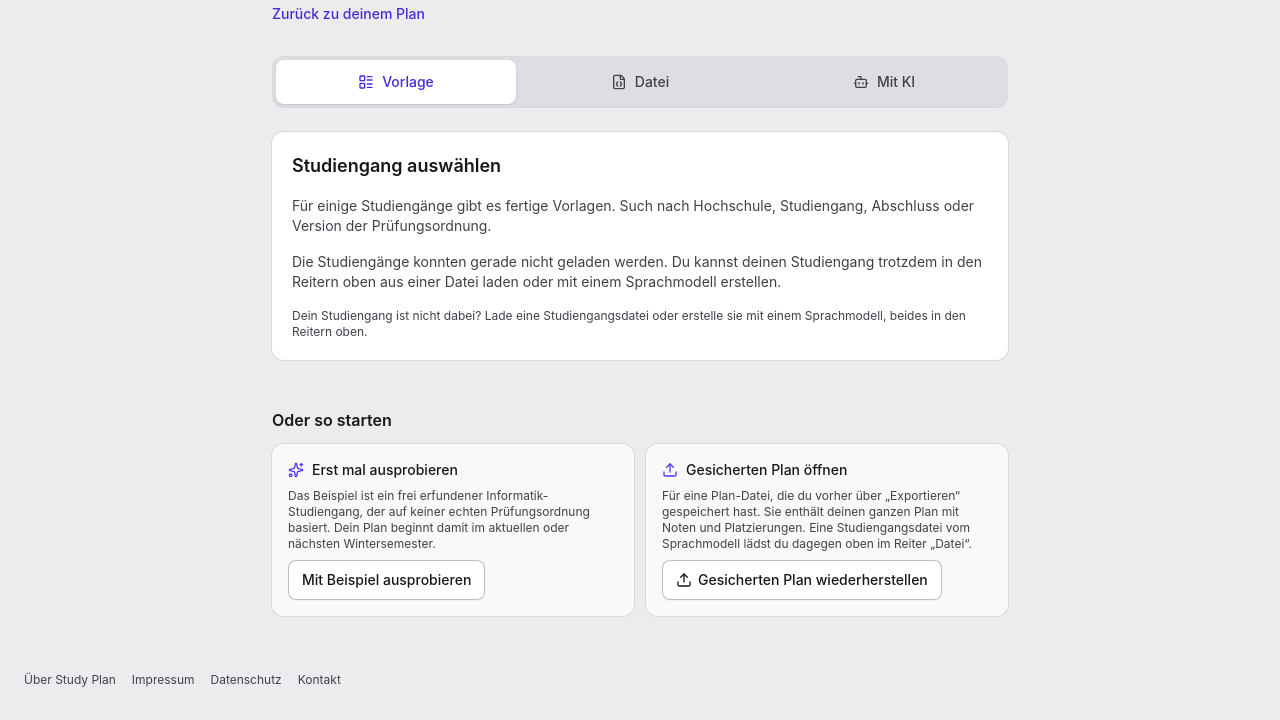
Test: onboarding › asks before the example replaces an existing plan
The image size is (1280, 720).
(page scrolled)
Expected: the link "Zurück zu deinem Plan" is shown, [272,5,425,22]
Click the button "Mit Beispiel ausprobieren": (387, 580) [288,560,485,600]
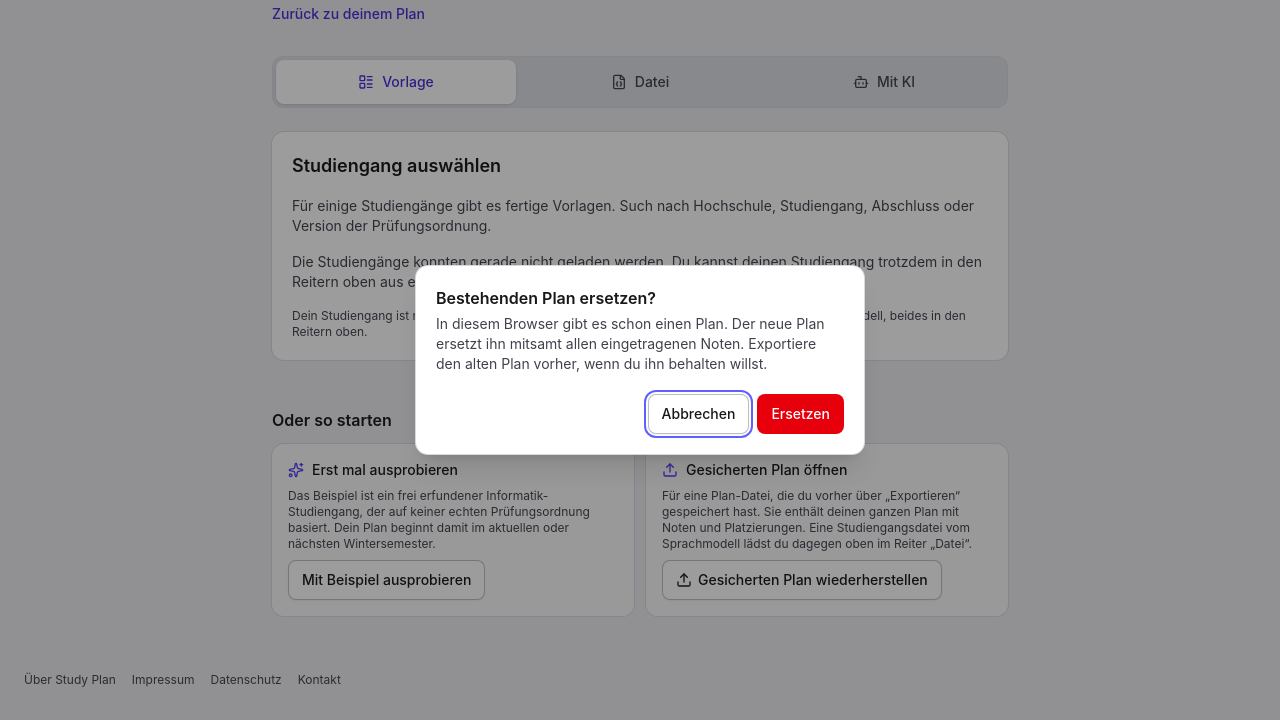
Click the button "Ersetzen": (801, 414) [757,394,844,434]
(page scrolled)
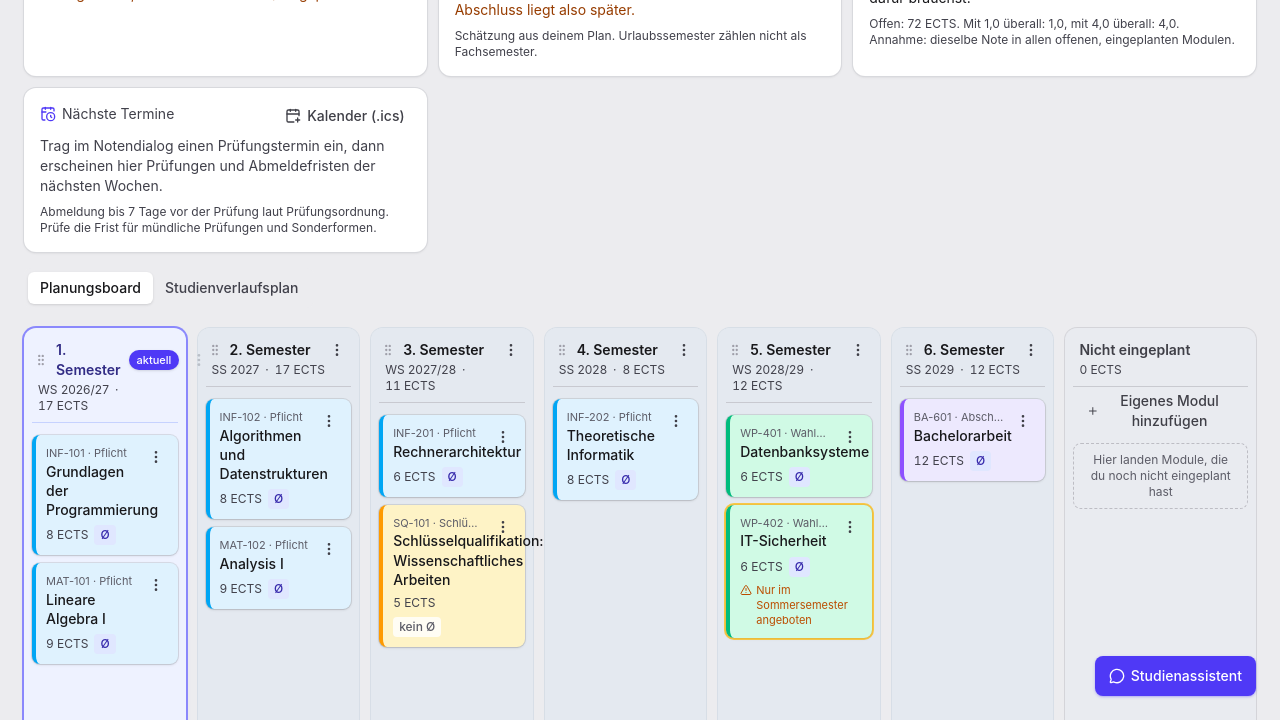
Result: the heading "1. Semester" is shown at [56,340,121,380]
